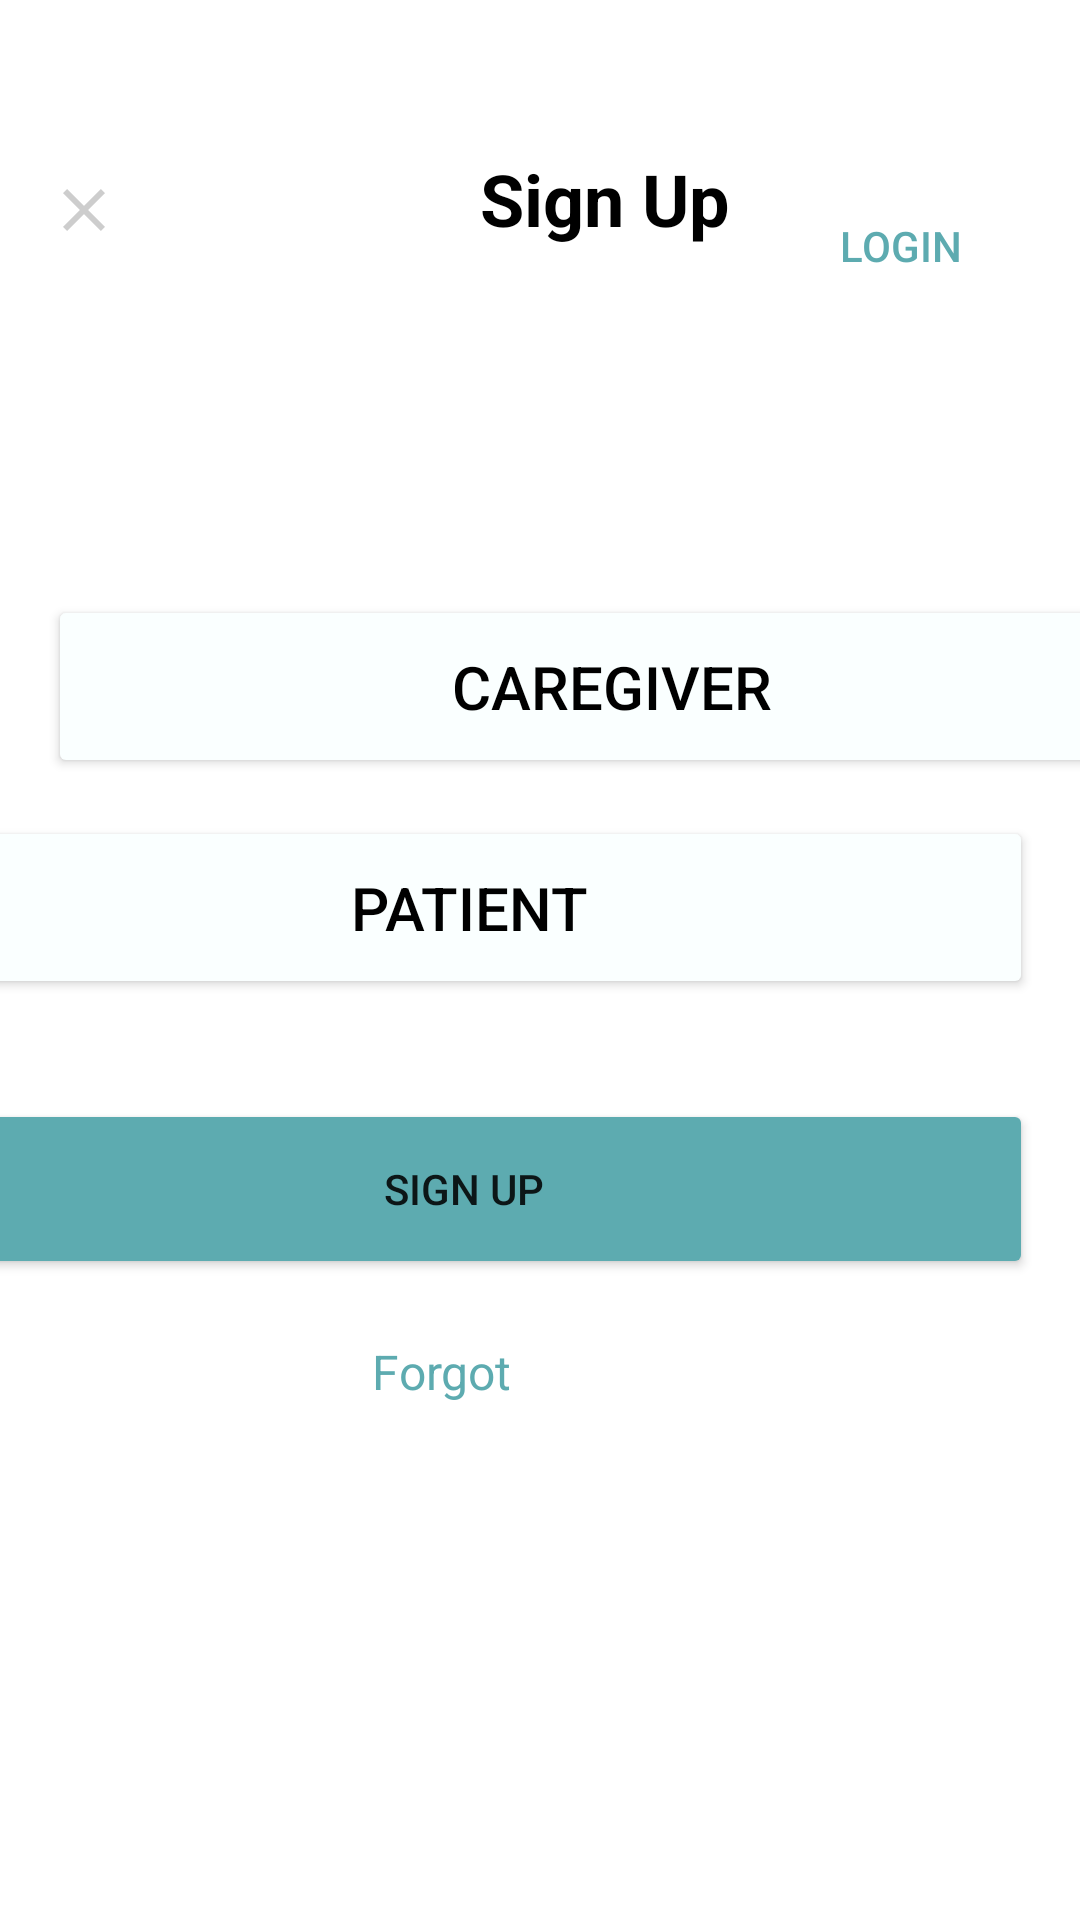

Screen size 1080*1920. Icon name, then its center in pixels as [x,y]:
close: [84,210]
